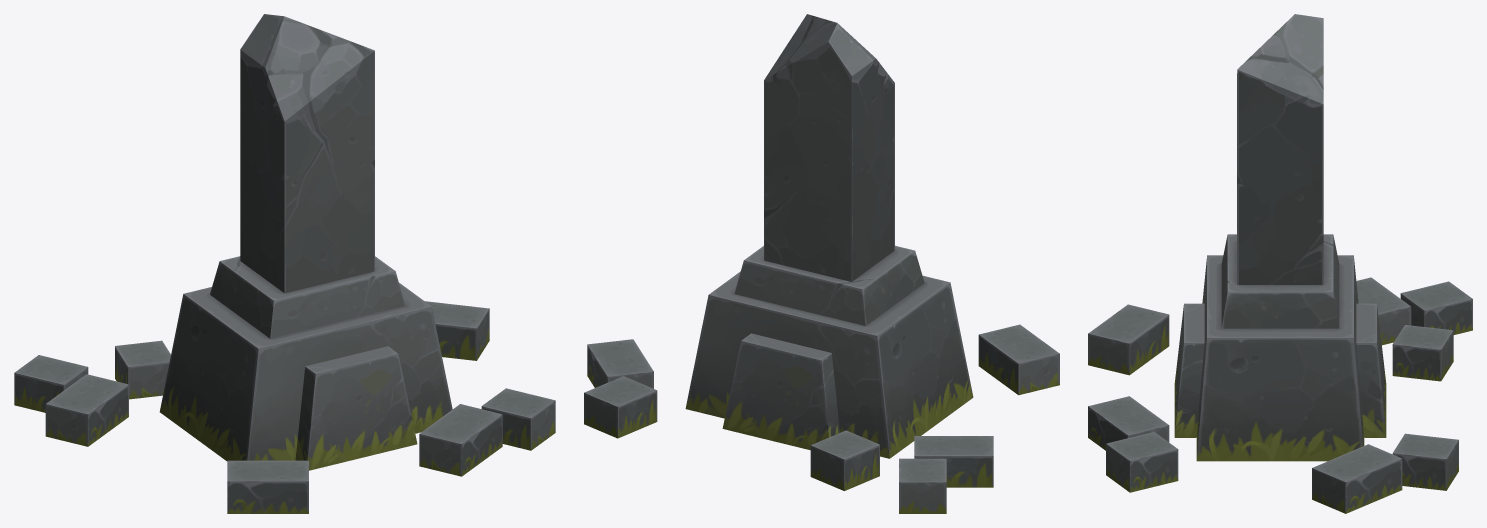
File: Pr_Column_03.FBX
The picture shows the model from 3 angles, left to right: view 1: azimuth 30°, elevation 25°; view 2: azimuth 150°, elevation 25°; view 3: azimuth 270°, elevation 25°; orthographic projection. The views are drawn at different scales.
Visible parts, largest first — view 1: Pr_Column_03; view 2: Pr_Column_03; view 3: Pr_Column_03.
Part boxes in pixels (<box>): Pr_Column_03: <box>14,14,555,513</box>; Pr_Column_03: <box>584,14,1059,513</box>; Pr_Column_03: <box>1088,14,1472,513</box>.
Bounding box in the file's own units: 2.41 × 2.14 × 1.91.
Materials: 1 (1 with a texture image).
